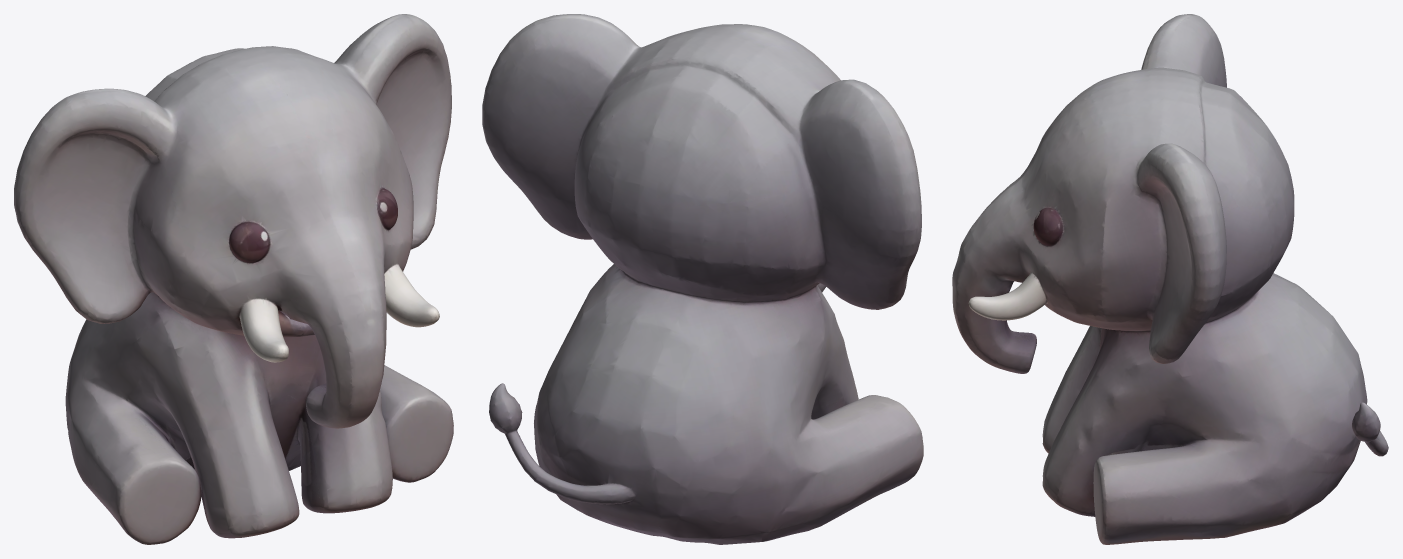
File: Elefante.glb
3 renders of one model, left to right at view 1: azimuth 30°, elevation 25°; view 2: azimuth 150°, elevation 25°; view 3: azimuth 270°, elevation 25°, orthographic. The views are drawn at different scales.
Size of the model in its own units: 1.9 by 1.82 by 1.78.
1 material, 1 textured.
